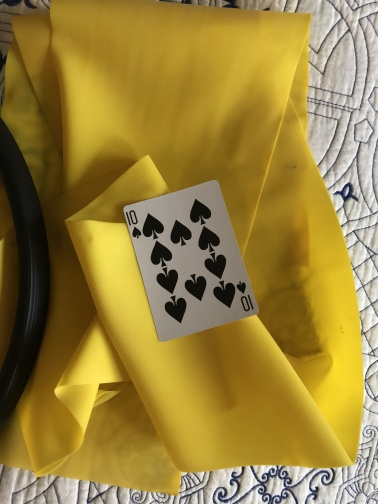ten: (122, 179, 260, 343)
